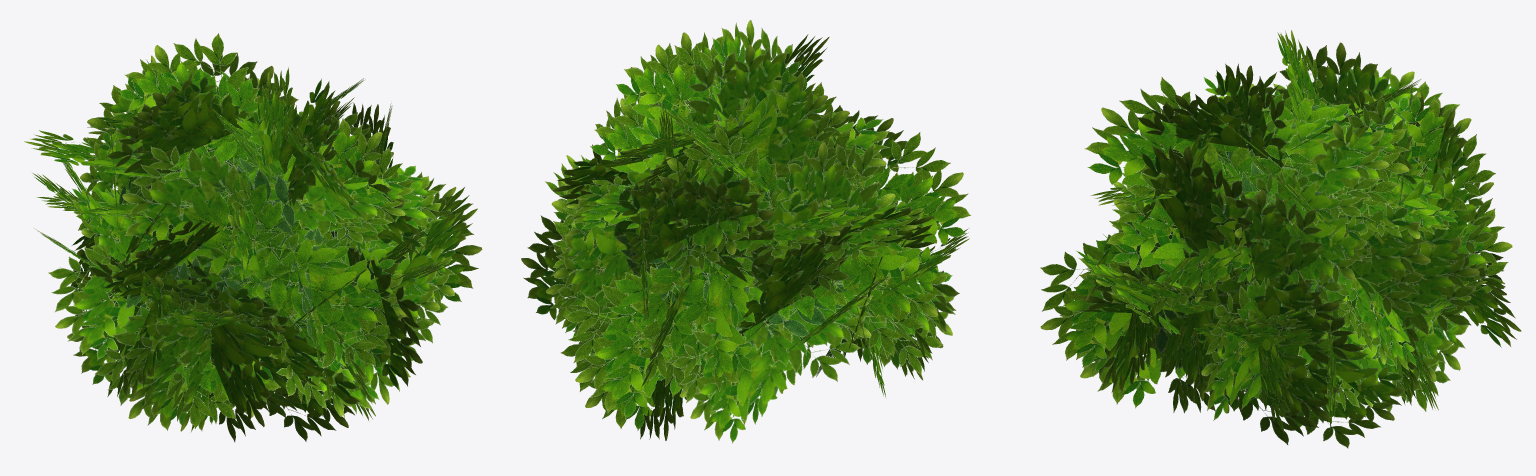
Rendered from bush_1.glb.
3 renders of one model, left to right at view 1: azimuth 30°, elevation 25°; view 2: azimuth 150°, elevation 25°; view 3: azimuth 270°, elevation 25°, orthographic. The views are drawn at different scales.
Visible parts, largest first — view 1: bush_1; view 2: bush_1; view 3: bush_1.
Part boxes in pixels (x1,y1,x2,y2): bush_1: (24, 33, 482, 442); bush_1: (521, 20, 971, 443); bush_1: (1040, 30, 1521, 448).
Bounding box in the file's own units: 6.16 × 5.21 × 6.35.
1 material, 1 textured.
